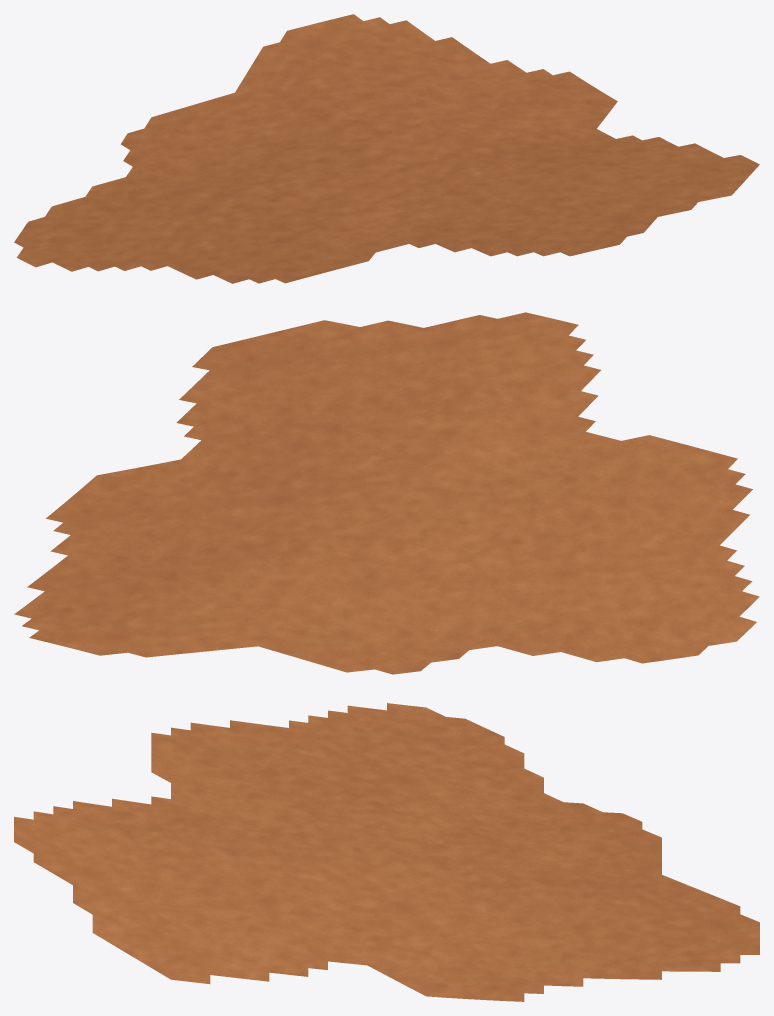
File: sand_orange_2.dae
The picture shows the model from 3 angles, top to bottom: view 1: azimuth 30°, elevation 25°; view 2: azimuth 150°, elevation 25°; view 3: azimuth 270°, elevation 25°; orthographic projection. The views are drawn at different scales.
Parts seen in each view (by area): view 1: sand_orange_2; view 2: sand_orange_2; view 3: sand_orange_2.
Boxes of the visible parts, box(x1,y1,x2,y2) form: sand_orange_2: box(14, 14, 759, 283); sand_orange_2: box(14, 312, 759, 674); sand_orange_2: box(14, 703, 759, 1001).
Bounding box in the file's own units: 9.25 × 9.5 × 1.
1 material, 1 textured.
